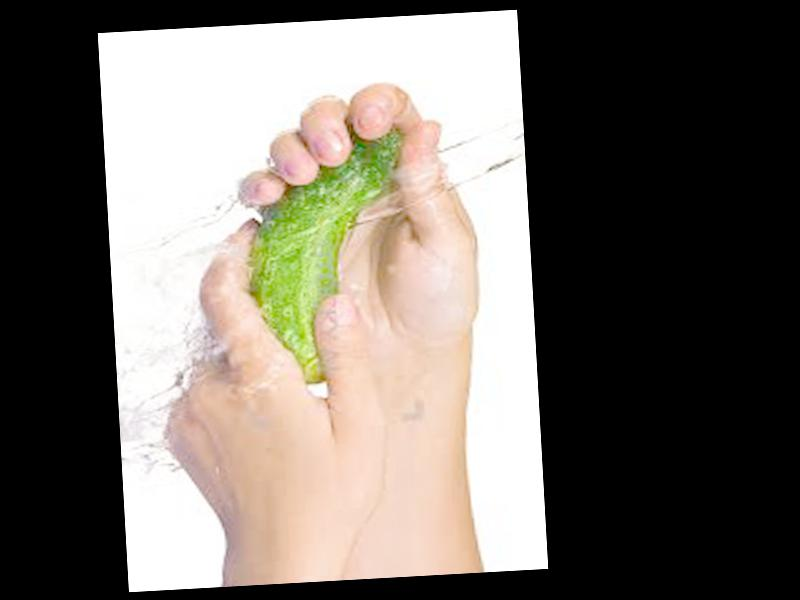Cucumber: (238, 126, 415, 389)
